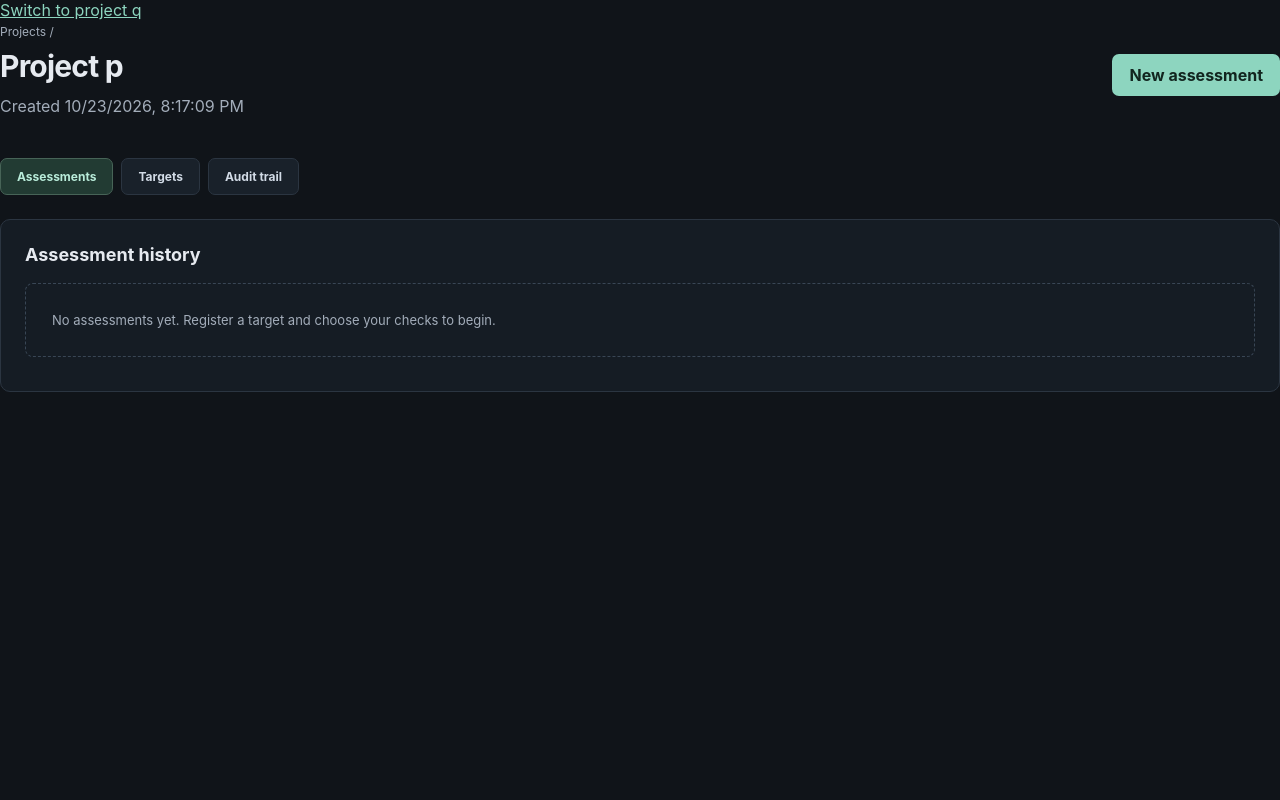
Test: clears the target draft when switching between cached projects
Click the button "Targets": (161, 176) [122,158,200,195]
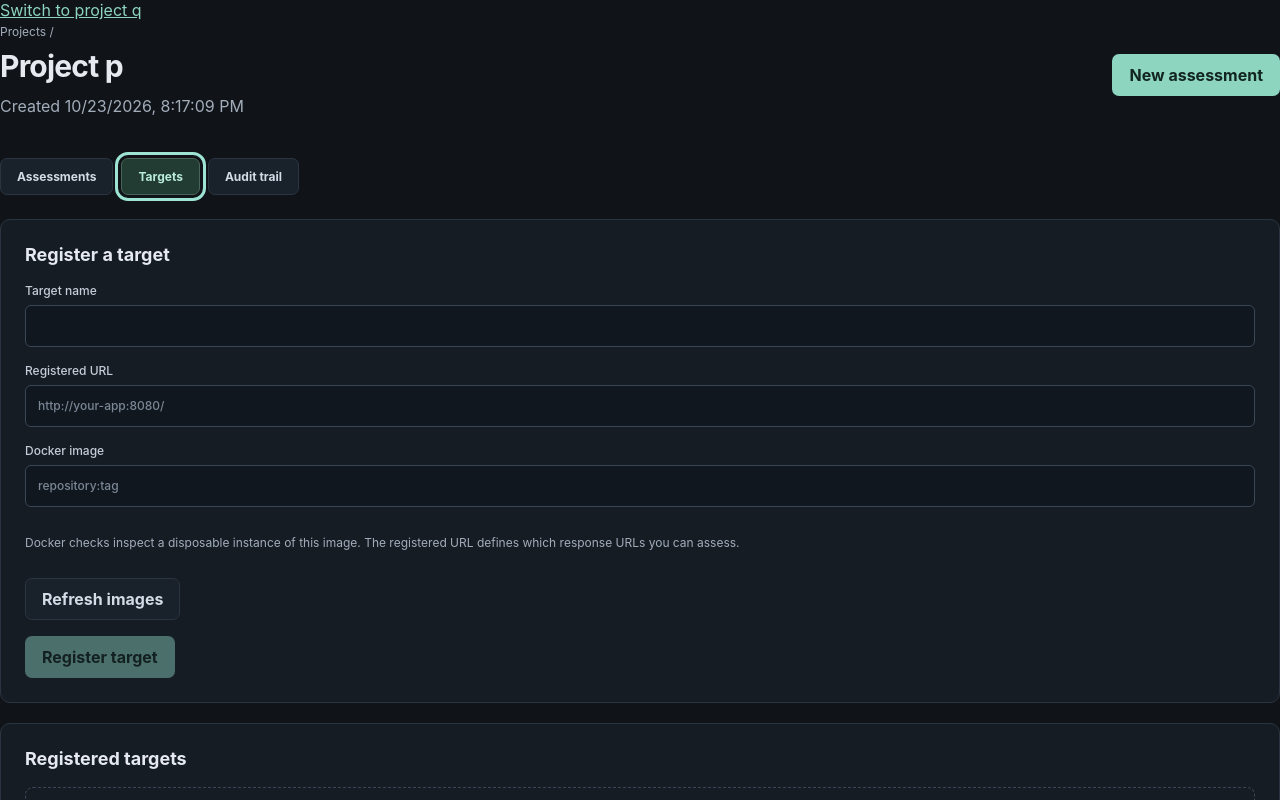
Expected: the field labelled "Docker image" is shown, [25,465,1255,507]
In the field labelled "Target name": (640, 326) [25,305,1255,347], type "Unfinished target"
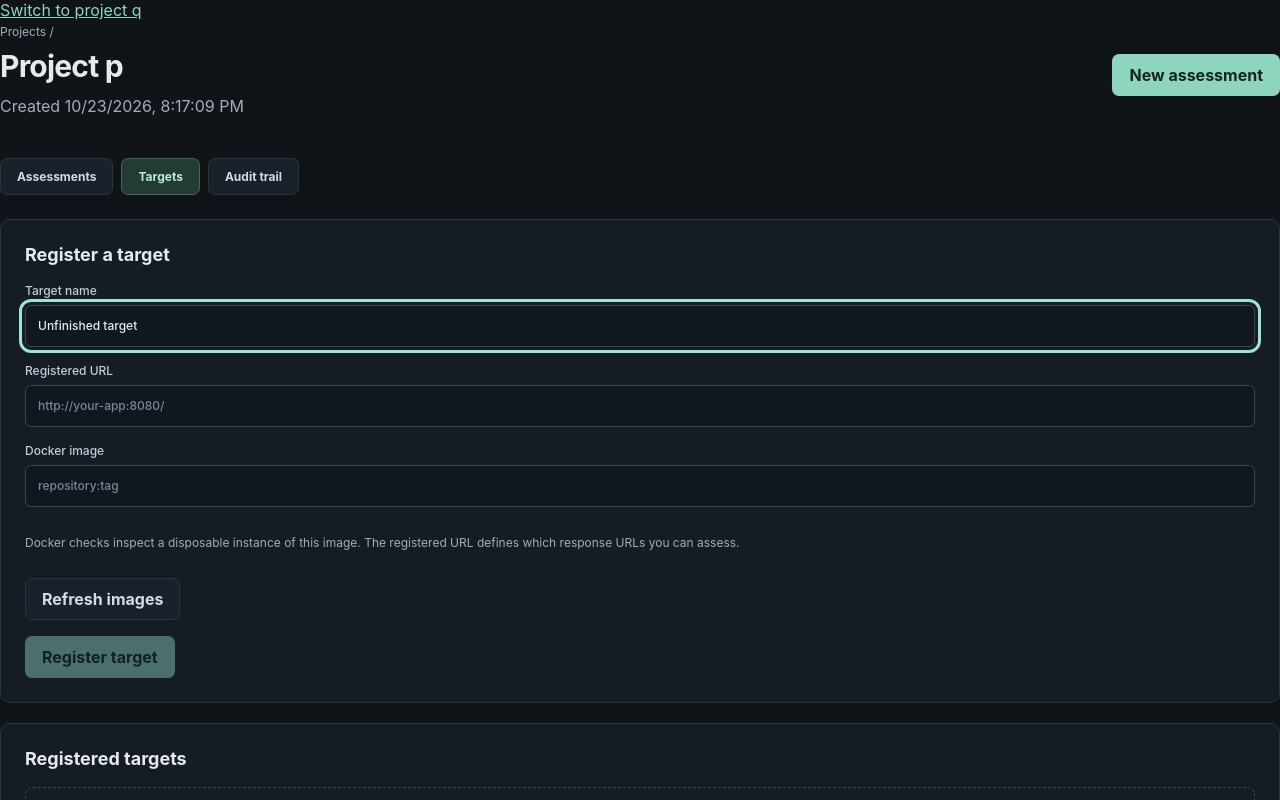
In the field labelled "Registered URL": (640, 406) [25,385,1255,427], type "https://p.test/"
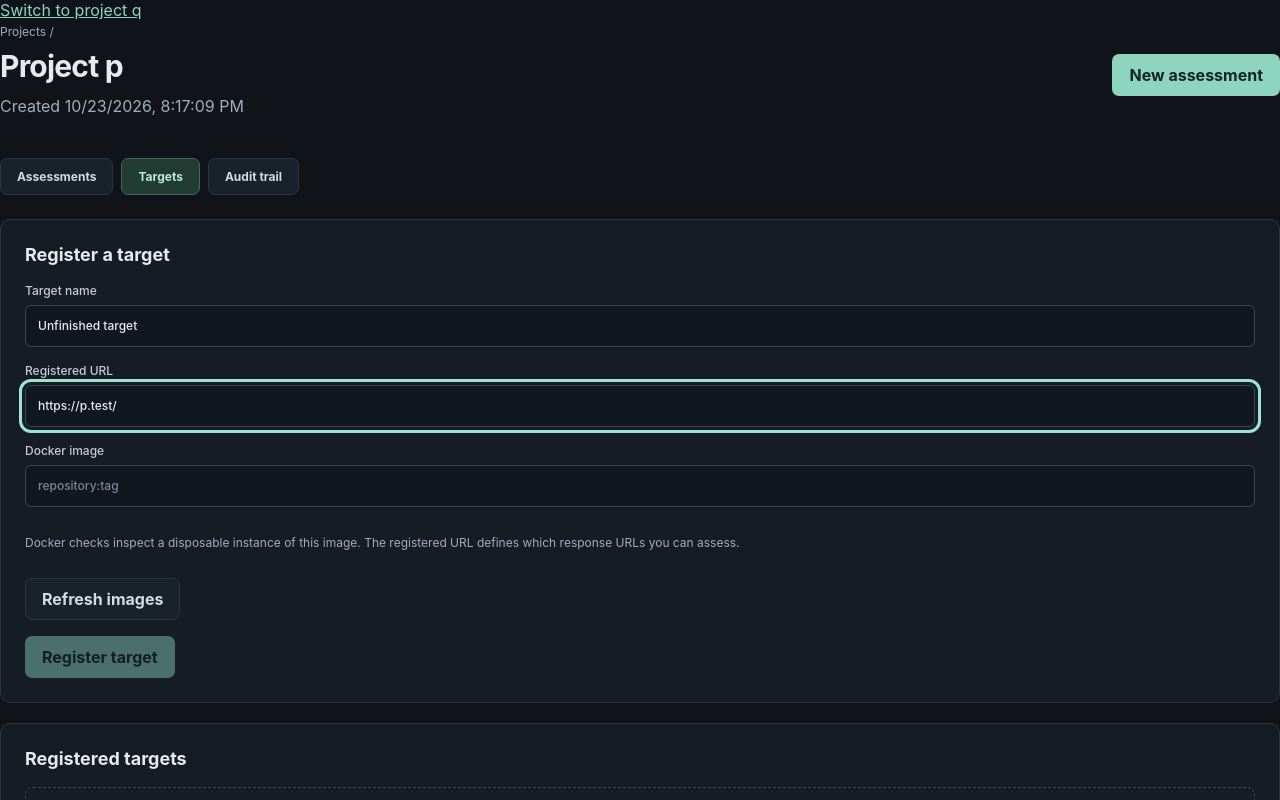
Click the link "Switch to project q": (71, 10) [0,0,142,20]
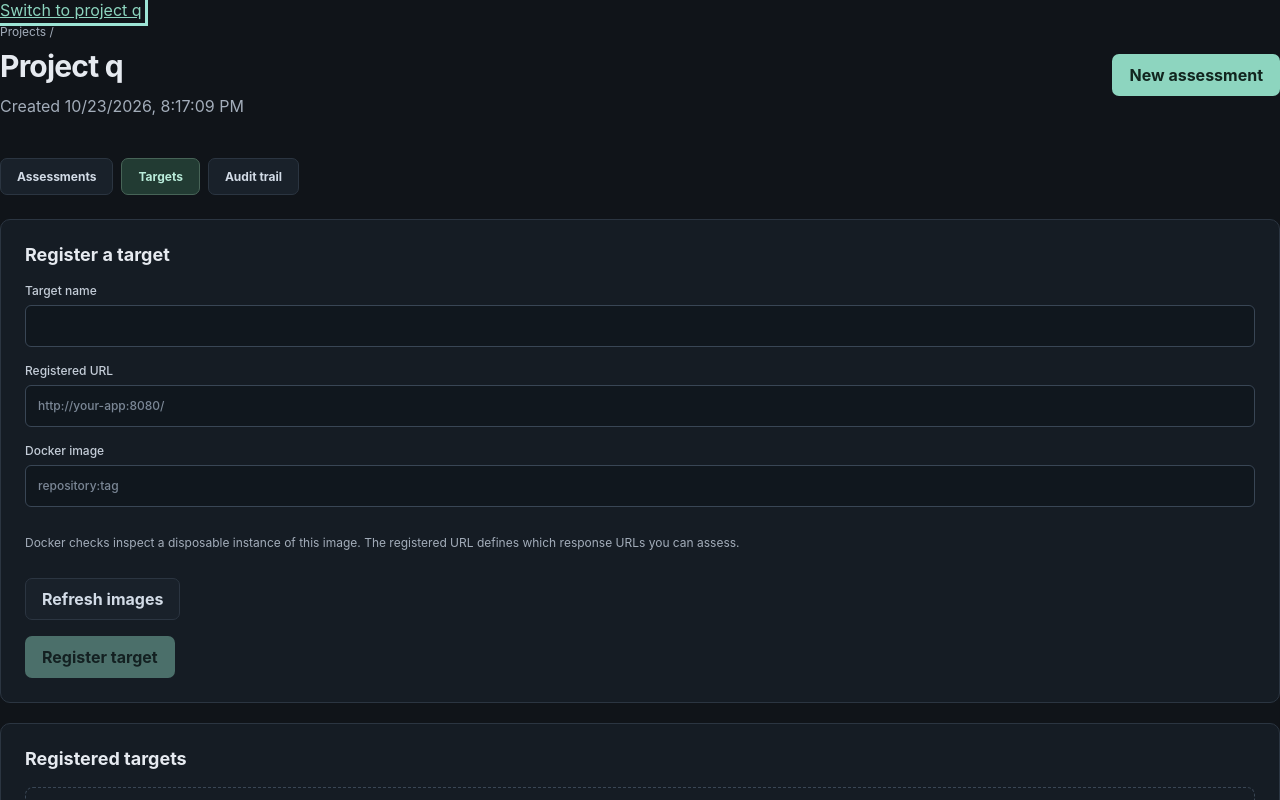
Expected: the heading "Project q" is shown, [0,48,123,84]
Expected: the field labelled "Target name" is empty, [25,305,1255,347]
Expected: the field labelled "Registered URL" is empty, [25,385,1255,427]
